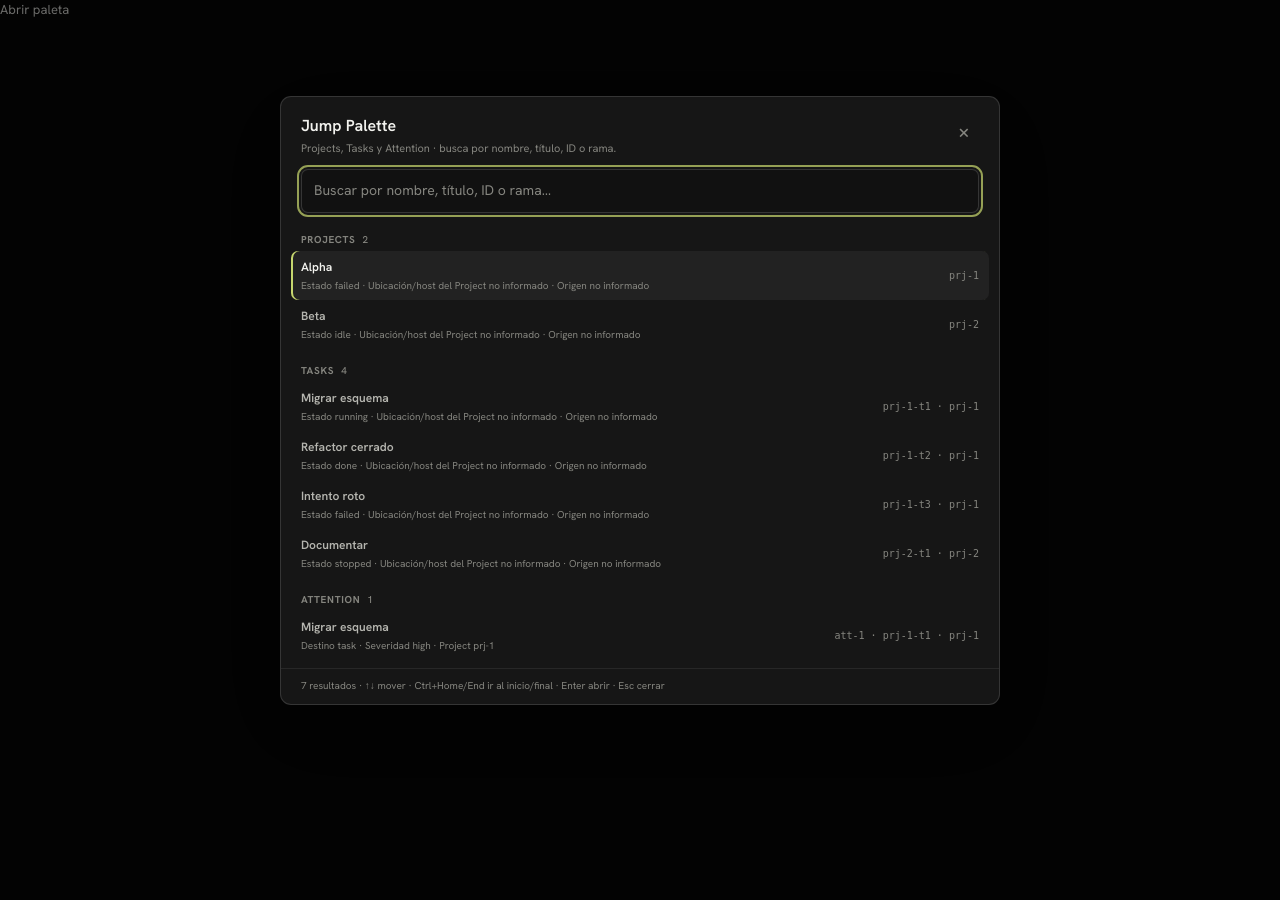
Scenario: JumpPaletteHost · recientes › un destino rechazado como obsoleto no se recuerda
Expected: the option "Alpha" is shown, [291,250,989,300]
Type "Beta" into the dropdown named "Buscar Projects, Tasks y Attention". click: (640, 190)
box: [301,168,979,212]
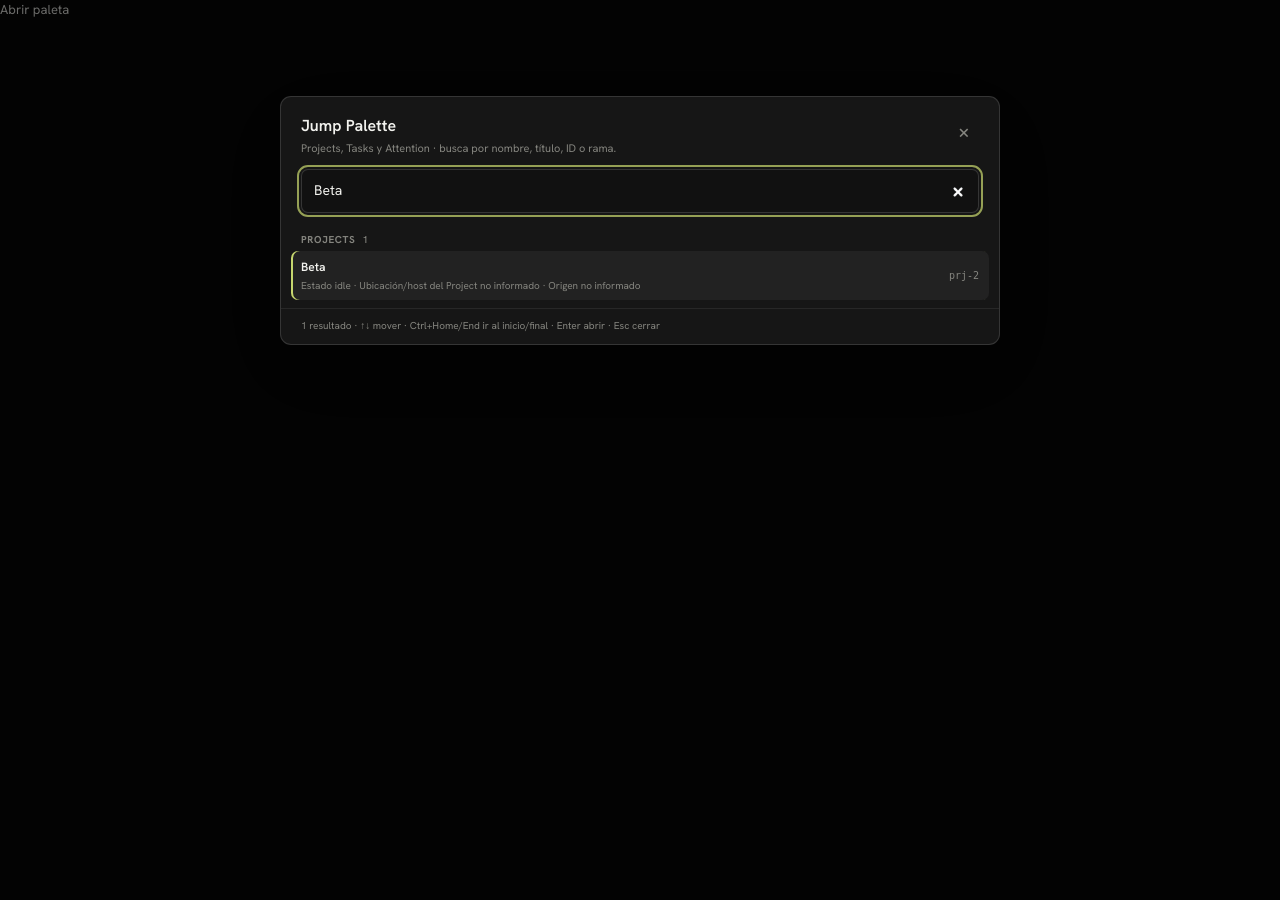
Press Enter in the dropdown named "Buscar Projects, Tasks y Attention", box [301,168,979,212]
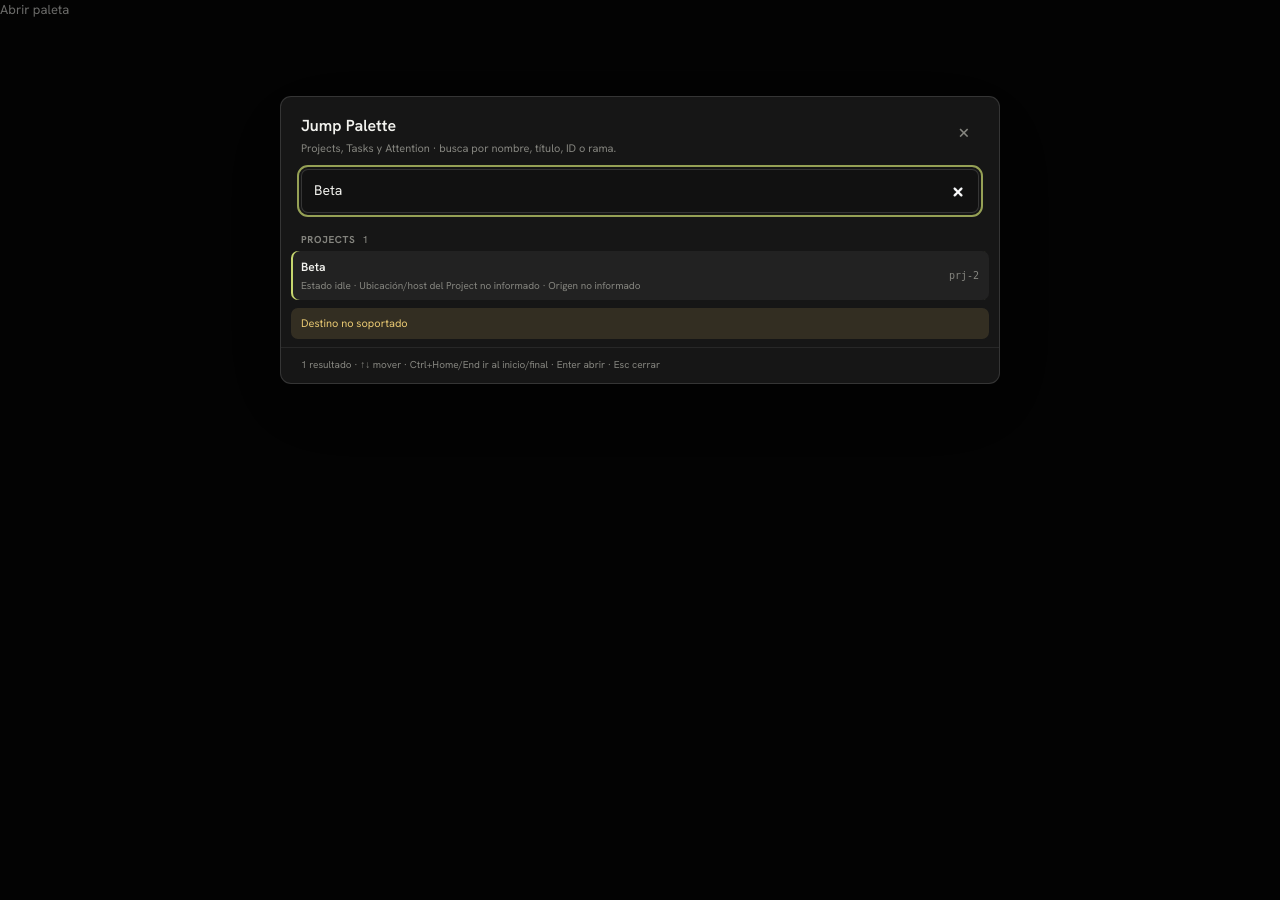
Result: the message "Destino no soportado" is shown at [291,308,989,339]
